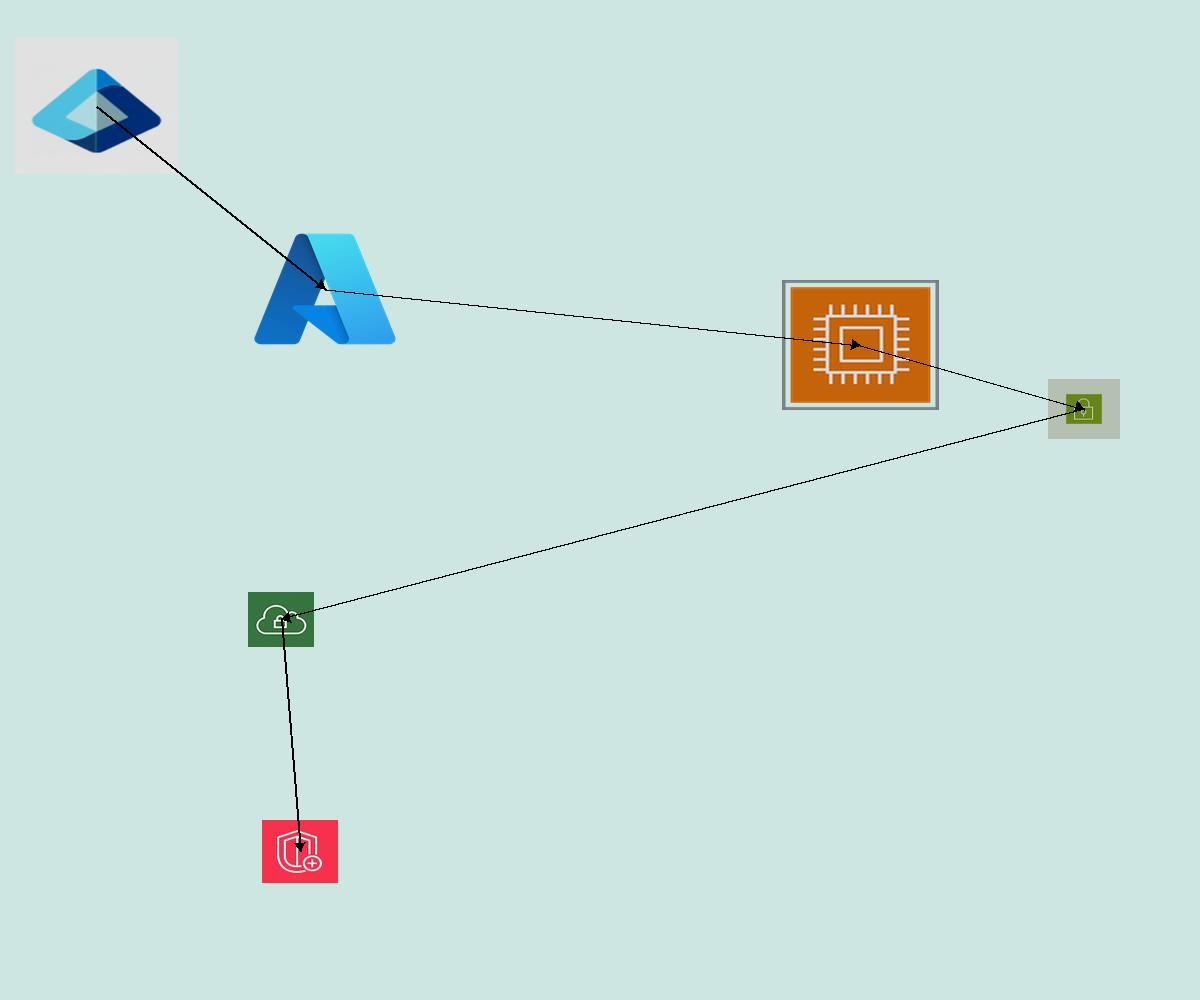AWS-Category_Compute: (782, 280, 939, 410)
AWS-Private_vpc: (248, 592, 314, 647)
AWS-Public-subnet: (1048, 379, 1120, 439)
AWS-Shield: (262, 820, 338, 883)
Azure_microsoft_entra: (15, 38, 178, 174)
Azure_services: (248, 225, 402, 353)
